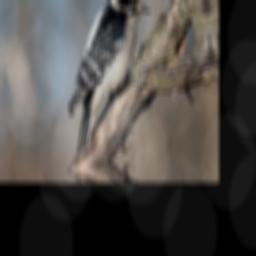Woodpecker: (57, 0, 166, 159)
